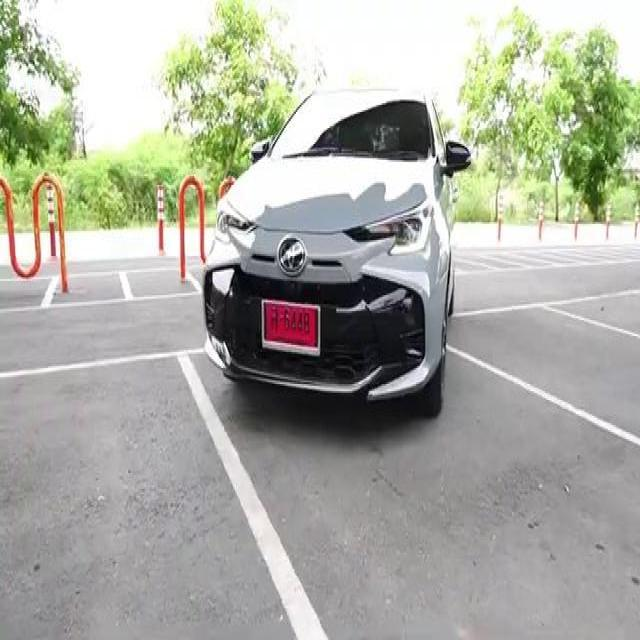Hatchback: (201, 89, 471, 416)
